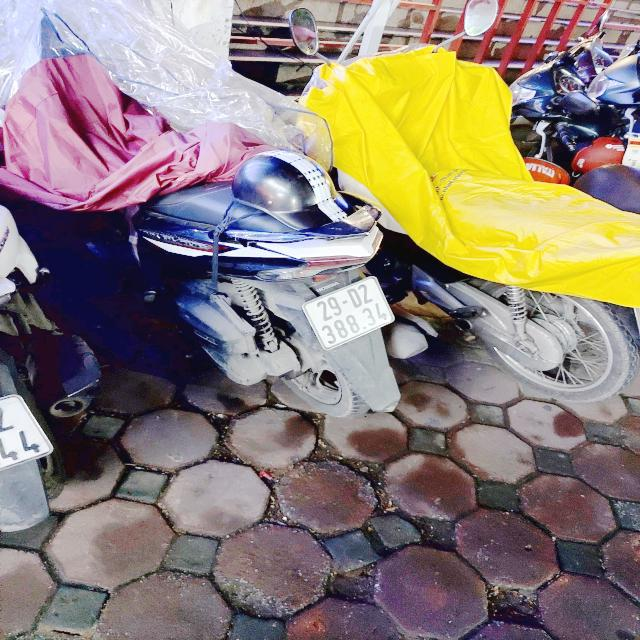license_plate: (298, 273, 401, 355)
